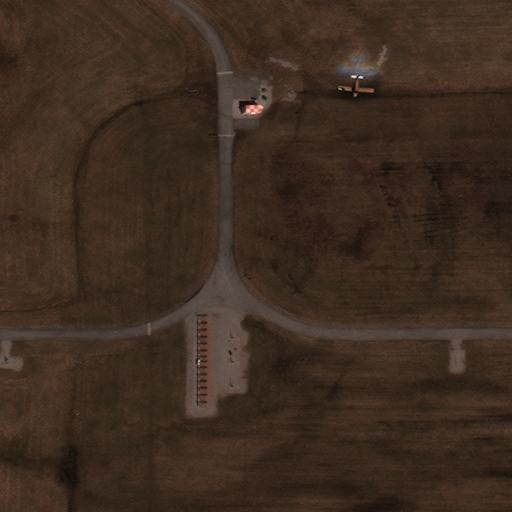Small Civil Transport: (337, 74, 374, 98)
